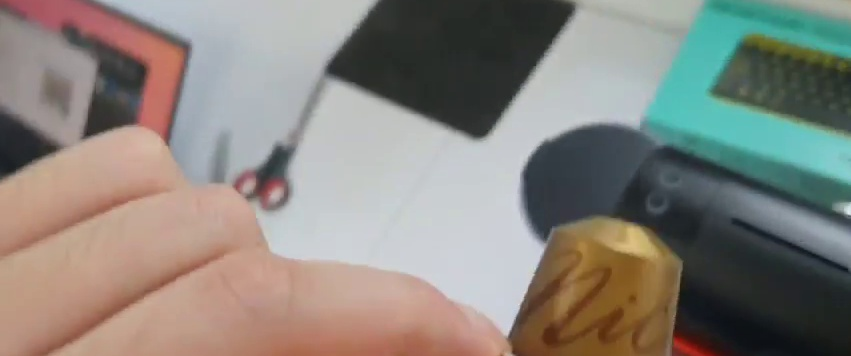capsule_9: (500, 211, 686, 356)
